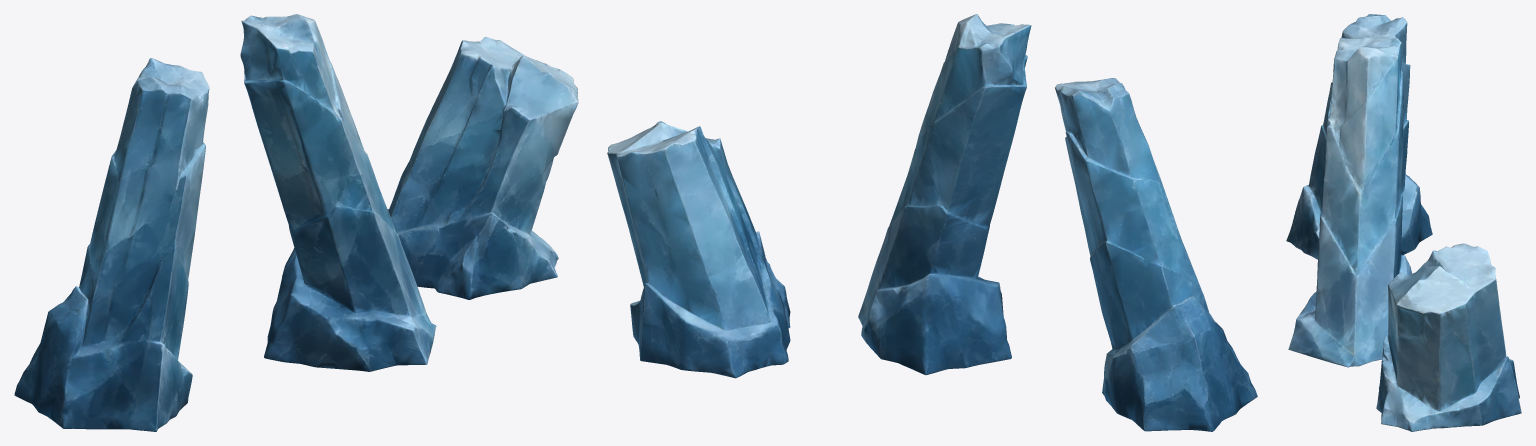
File: cristal.glb
3 renders of one model, left to right at view 1: azimuth 30°, elevation 25°; view 2: azimuth 150°, elevation 25°; view 3: azimuth 270°, elevation 25°, orthographic. The views are drawn at different scales.
Parts seen in each view (by area): view 1: tripo_node_55e28cfc-aaaa-42a0-af7a-c7e2b9d1701e; view 2: tripo_node_55e28cfc-aaaa-42a0-af7a-c7e2b9d1701e; view 3: tripo_node_55e28cfc-aaaa-42a0-af7a-c7e2b9d1701e.
Boxes of the visible parts, bbox=[...] form: tripo_node_55e28cfc-aaaa-42a0-af7a-c7e2b9d1701e: bbox=[14, 14, 578, 431]; tripo_node_55e28cfc-aaaa-42a0-af7a-c7e2b9d1701e: bbox=[607, 14, 1257, 431]; tripo_node_55e28cfc-aaaa-42a0-af7a-c7e2b9d1701e: bbox=[1286, 14, 1521, 431].
Size of the model in its own units: 0.9996 by 0.5481 by 0.4295.
1 material, 1 textured.
